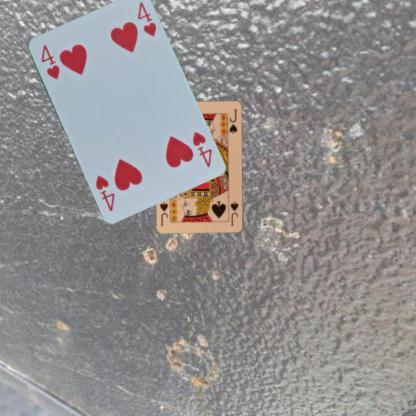4h: (188, 129, 214, 169), (38, 41, 60, 81)
Js: (228, 199, 240, 226)
